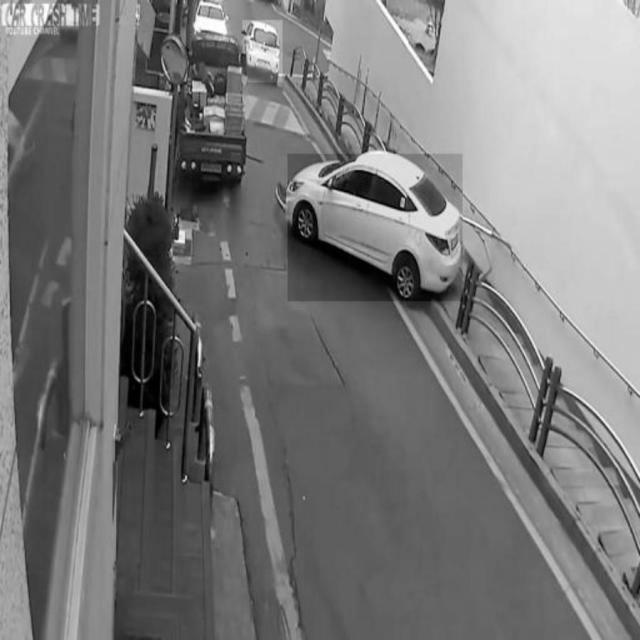vehicle: (287, 155, 463, 302), (176, 32, 246, 186), (243, 20, 283, 82)
